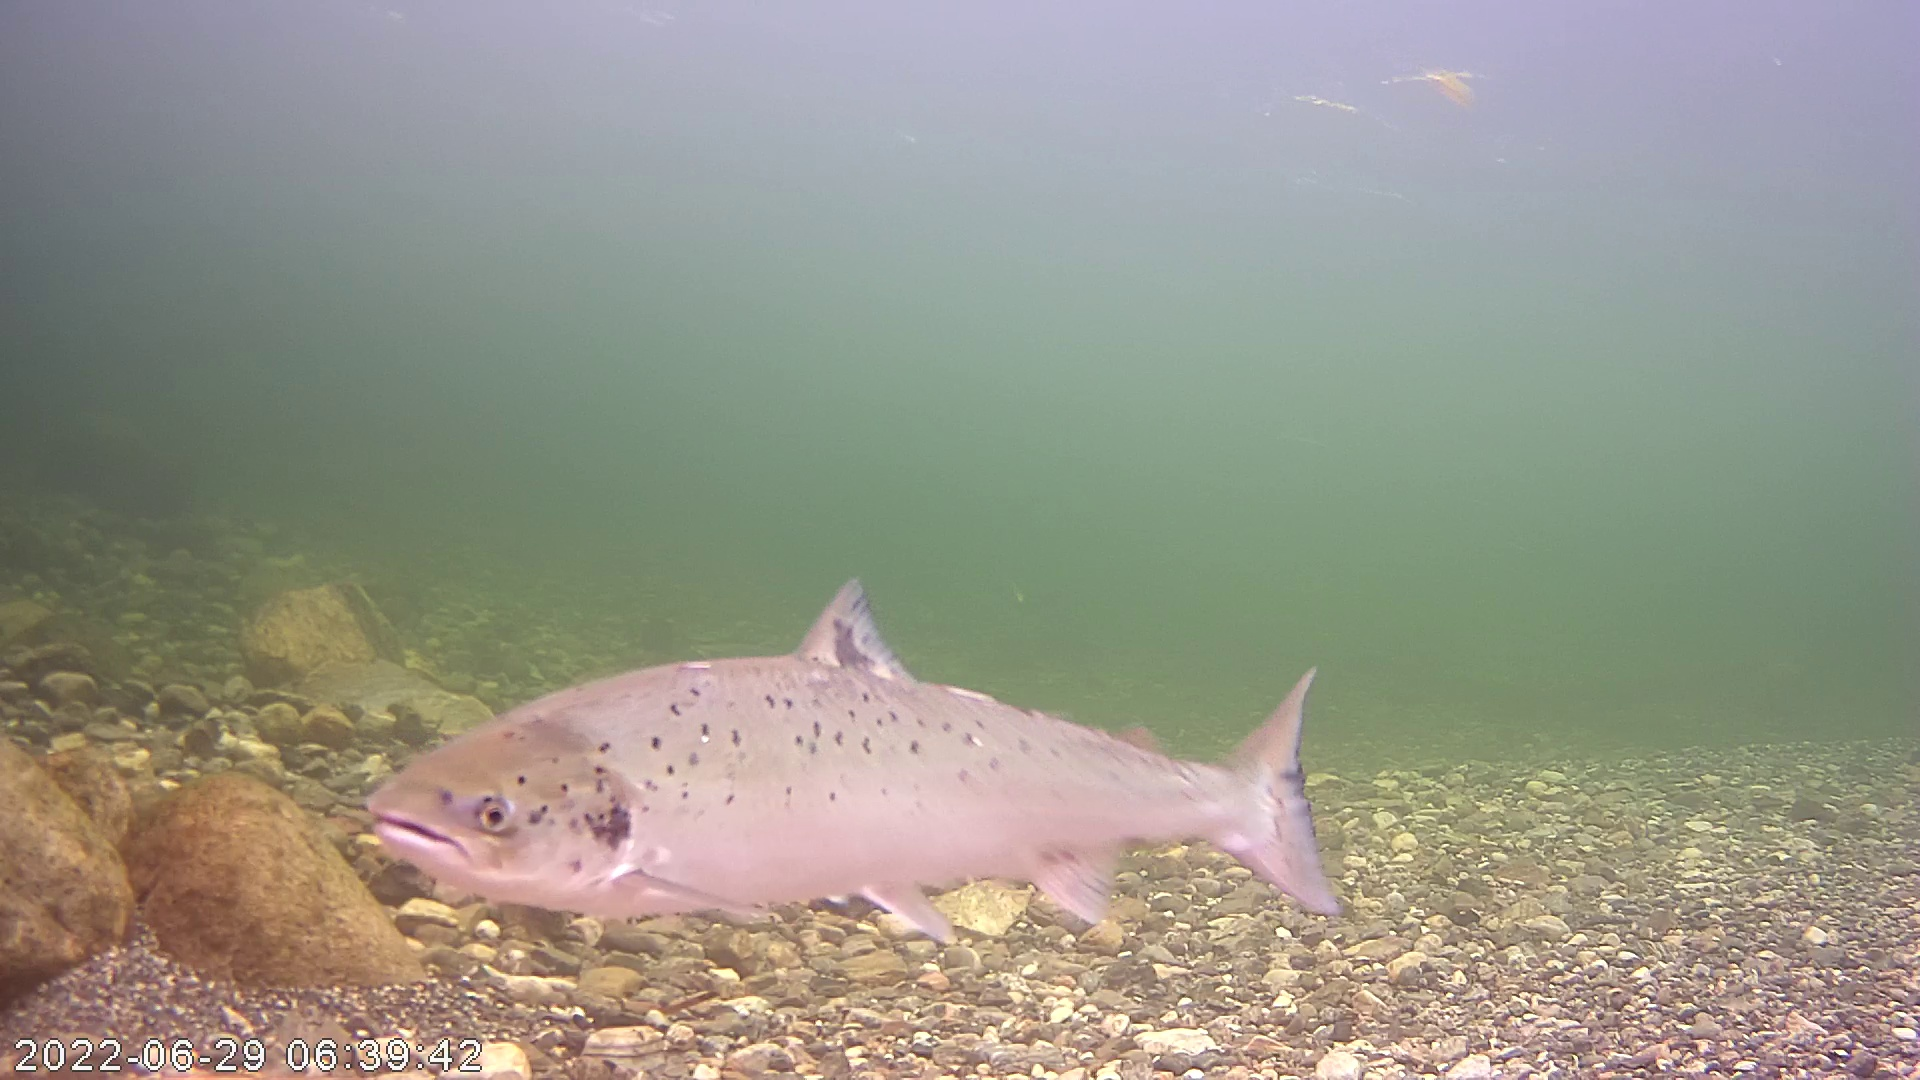salmon: (388, 538, 1348, 955)
